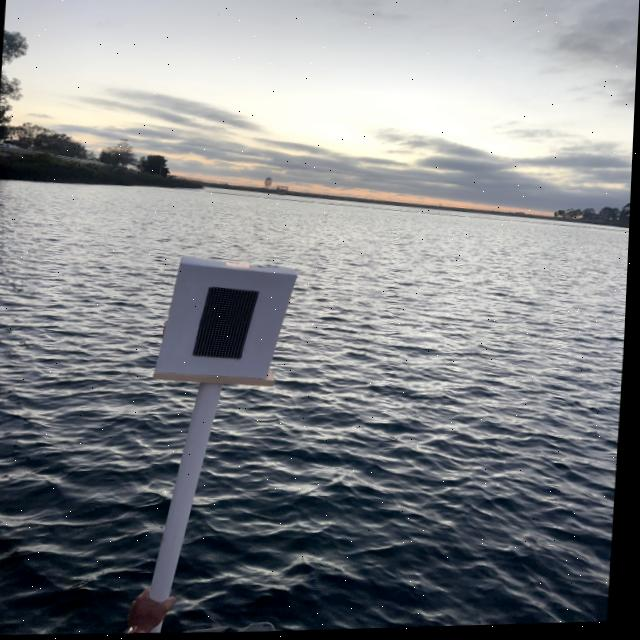led: (183, 269, 271, 384)
